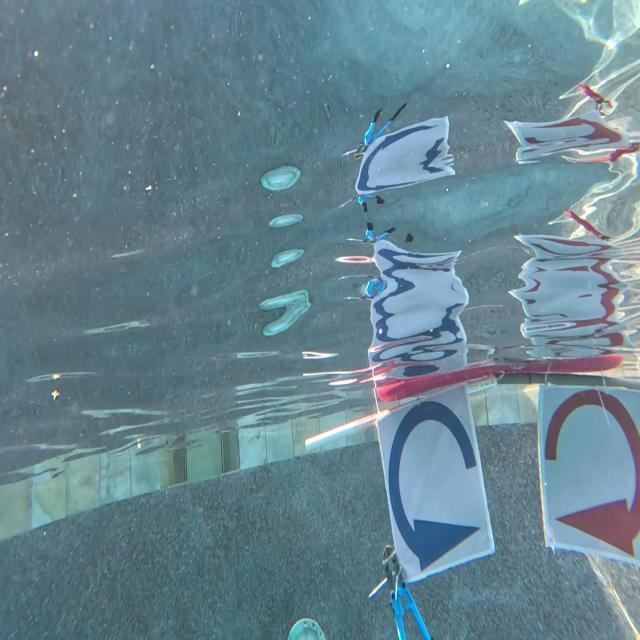blue_side: (383, 396, 480, 571)
red_side: (543, 387, 640, 565)
